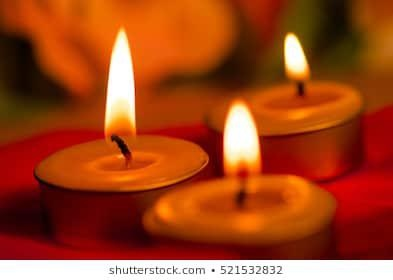fire: (103, 22, 138, 144), (220, 96, 263, 178), (280, 28, 309, 84)
